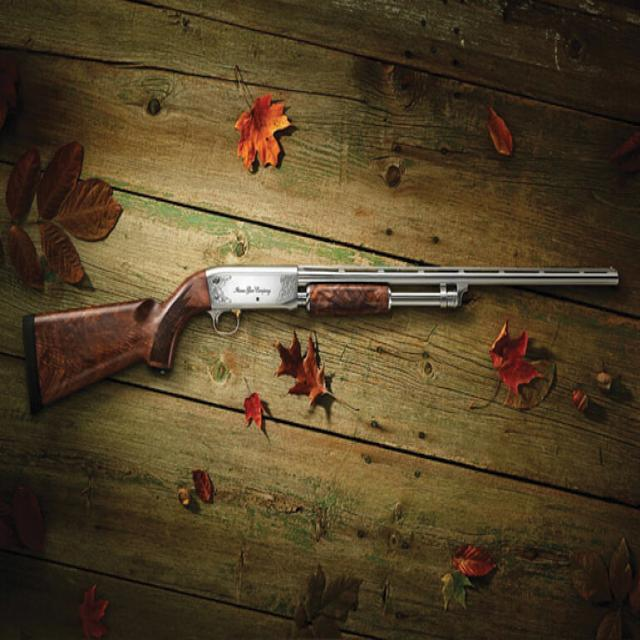ShotGun: (24, 266, 621, 409)
